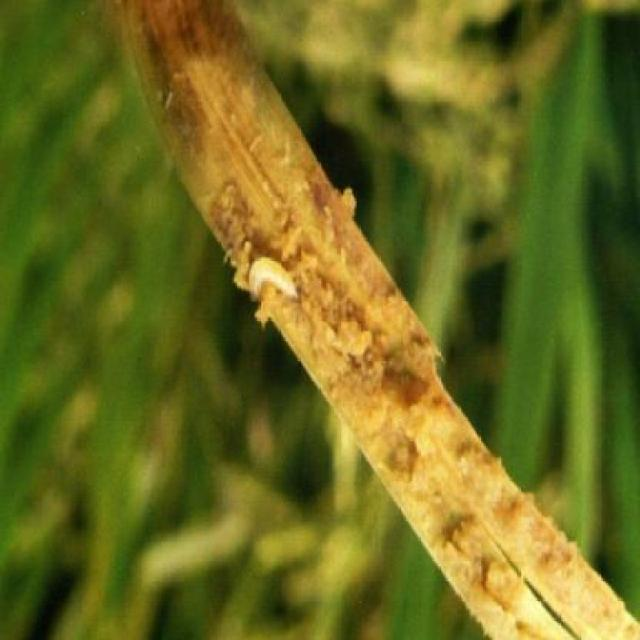whorl-maggot: (236, 246, 309, 317)
